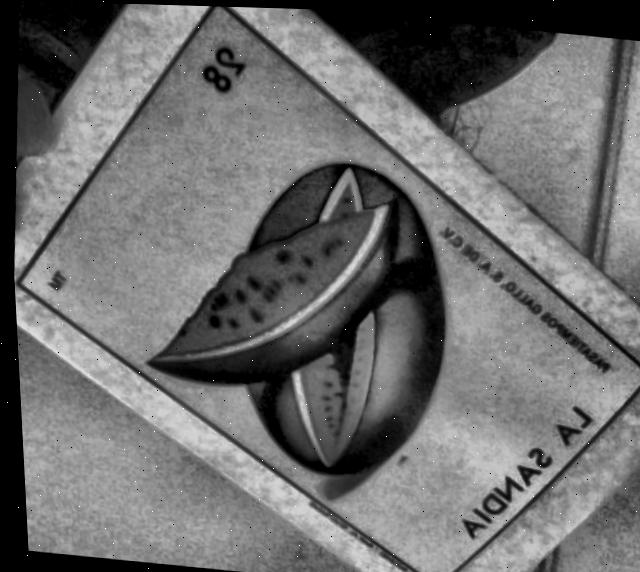La Sandia: (16, 5, 640, 572)
